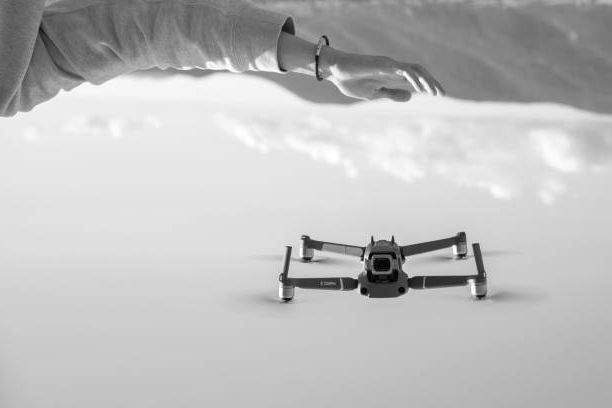Drone: (228, 229, 539, 310)
